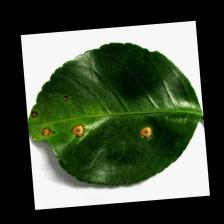canker: (29, 87, 164, 162)
